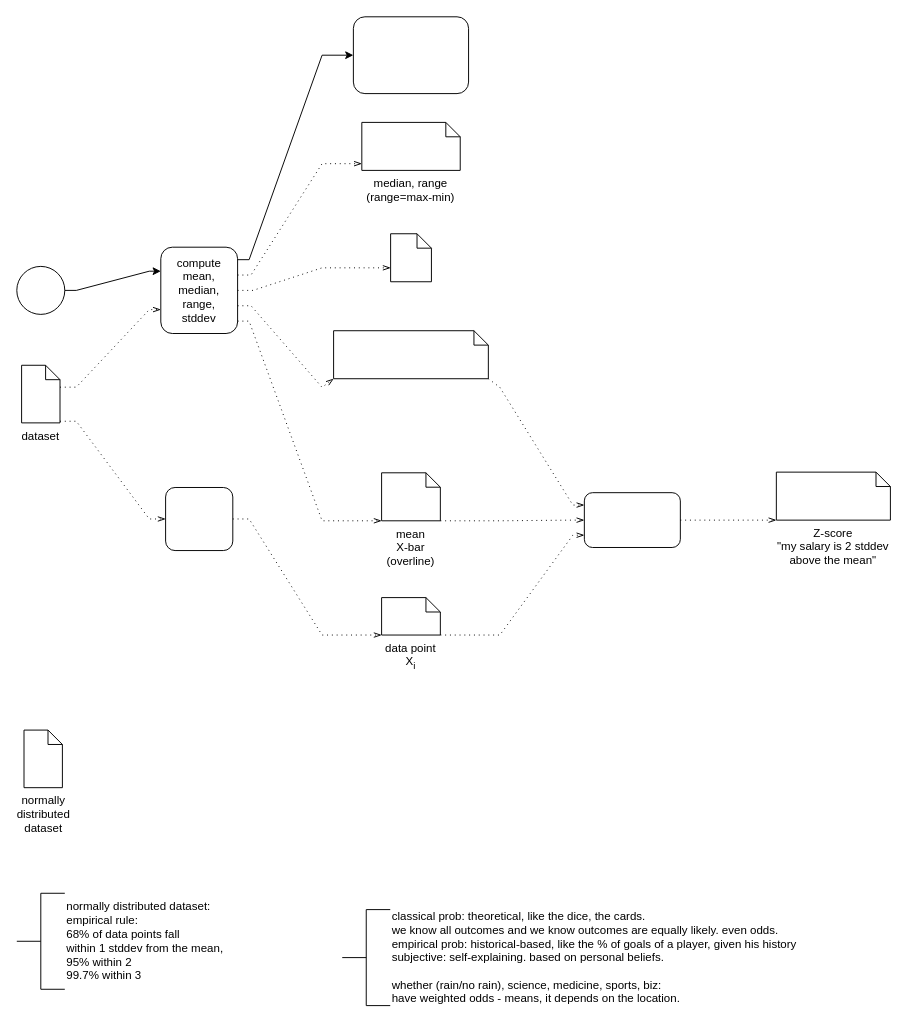
Some shapes in this 907 by 1022 pixel diagram are drawn without their labels. Here are the shapes that lost their labels. From the top down, the centre of each, then its label:
At [410,55]: "Task".
At [410,257]: "Z-score".
At [410,354]: "stddev S or sigma sqrt(sum(D2i)/(N-1)) where D2i=sqr(X i -mean)".
At [199,519]: "extract one data point".
At [631,519]: "compute Z-score: (d.p. - mean) / S".
